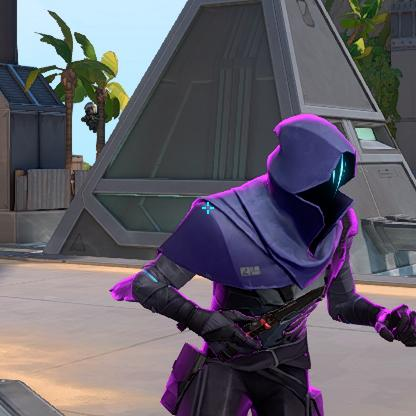enemyBody: (239, 215, 305, 366)
enemyHead: (287, 138, 345, 206)
